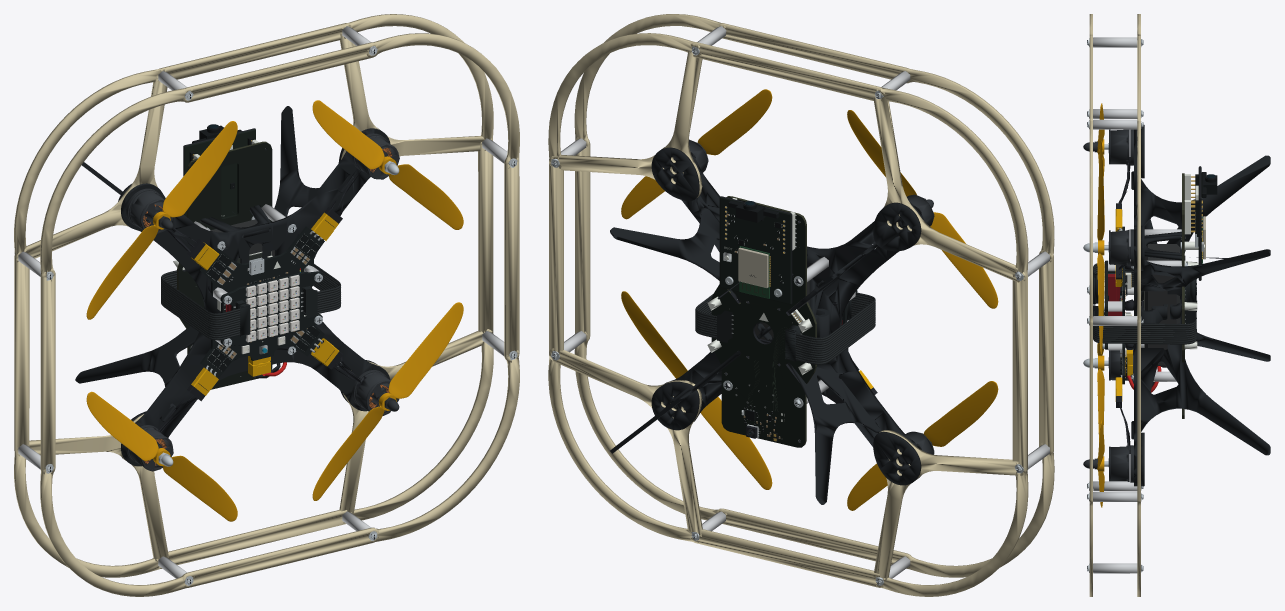
File: pioneer-basic.glb
3 views of the same model, side by side, from view 1: azimuth 30°, elevation 25°; view 2: azimuth 150°, elevation 25°; view 3: azimuth 270°, elevation 25° (orthographic). The views are drawn at different scales.
Parts seen in each view (by area): view 1: frame_mesh, led_module_mesh, rotor_2_mesh, rotor_3_mesh, rotor_0_mesh, rotor_1_mesh, esp32_module_mesh; view 2: frame_mesh, esp32_module_mesh, rotor_3_mesh, rotor_1_mesh, rotor_0_mesh, rotor_2_mesh; view 3: frame_mesh, esp32_module_mesh, rotor_0_mesh, rotor_1_mesh, rotor_3_mesh, led_module_mesh, rotor_2_mesh.
Boxes of the visible parts, <box> form: frame_mesh: <box>14,14,519,596</box>; led_module_mesh: <box>220,271,322,346</box>; rotor_2_mesh: <box>86,121,237,319</box>; rotor_3_mesh: <box>312,302,463,500</box>; rotor_0_mesh: <box>312,100,463,229</box>; rotor_1_mesh: <box>86,391,237,521</box>; esp32_module_mesh: <box>183,124,255,229</box>; frame_mesh: <box>548,14,1054,596</box>; esp32_module_mesh: <box>719,196,792,304</box>; rotor_3_mesh: <box>621,291,772,489</box>; rotor_1_mesh: <box>847,381,998,510</box>; rotor_0_mesh: <box>621,89,772,219</box>; rotor_2_mesh: <box>847,110,998,308</box>; frame_mesh: <box>1087,14,1270,596</box>; esp32_module_mesh: <box>1180,166,1217,280</box>; rotor_0_mesh: <box>1083,141,1108,354</box>; rotor_1_mesh: <box>1083,343,1108,442</box>; rotor_3_mesh: <box>1083,420,1108,507</box>; led_module_mesh: <box>1102,260,1116,349</box>; rotor_2_mesh: <box>1083,103,1108,175</box>.
Bounding box in the file's own units: 0.5685 × 0.5685 × 0.211.
